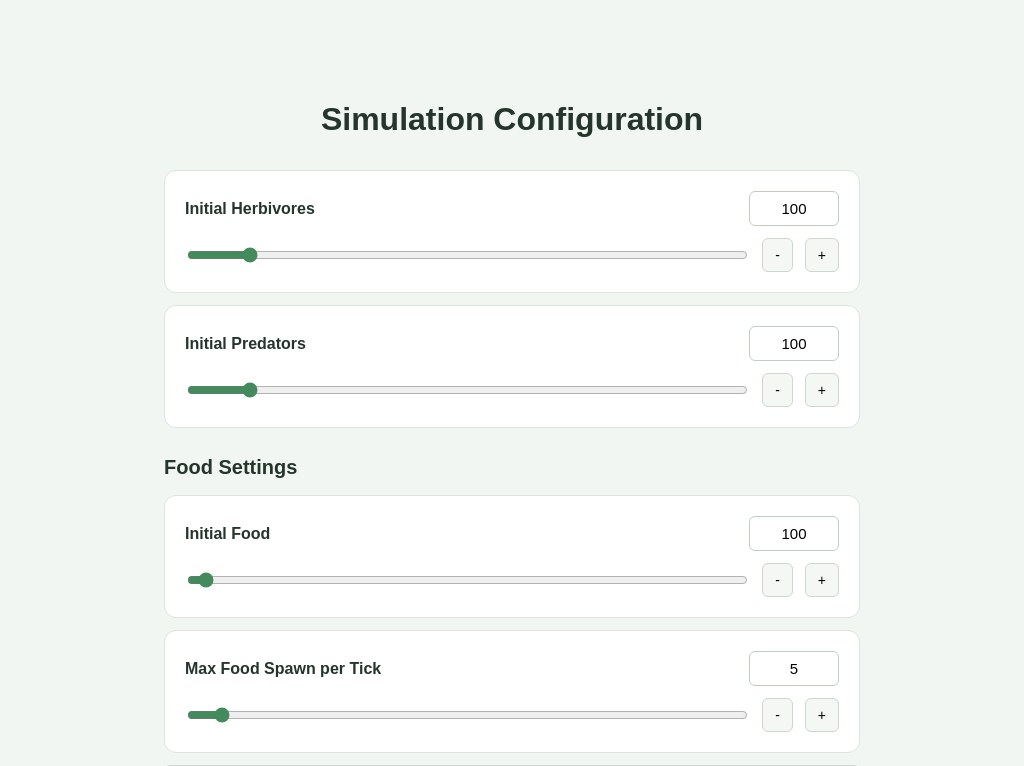
ConfigurationPage › clears a validation error when the field is corrected
This screenshot has width=1024, height=766.
Clear the field labelled "Initial Herbivores" at (794, 209), box 749,191 -> 839,226
(page scrolled)
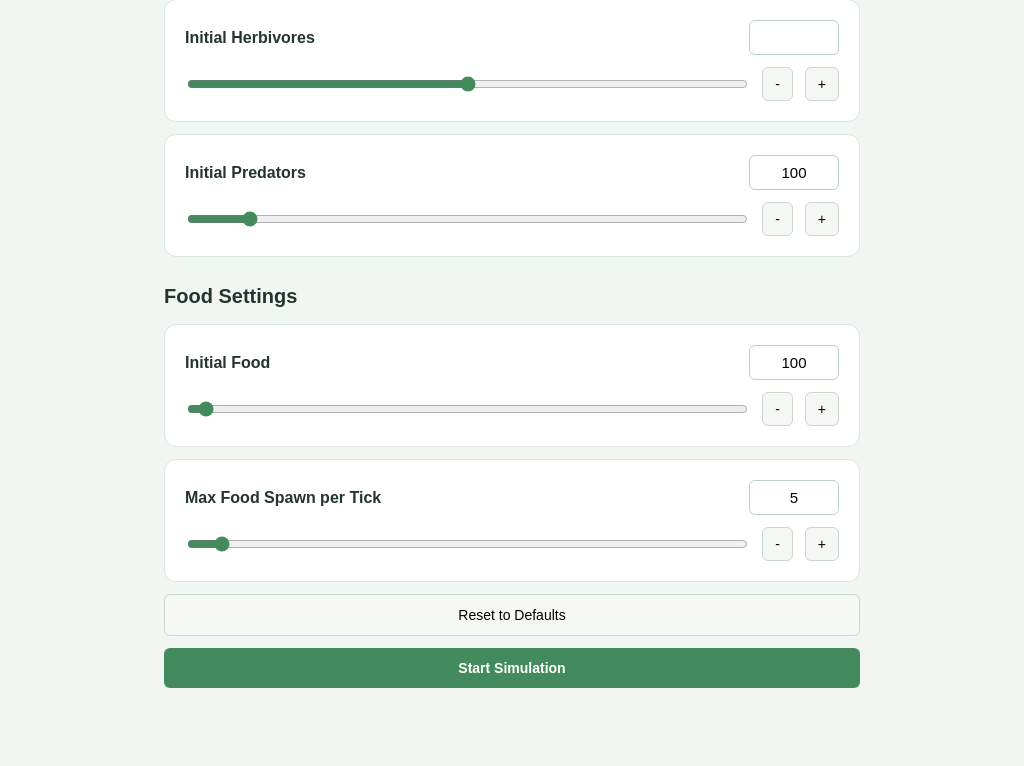
Click the button "Start Simulation".
click(512, 668)  # box 164,648 -> 860,688
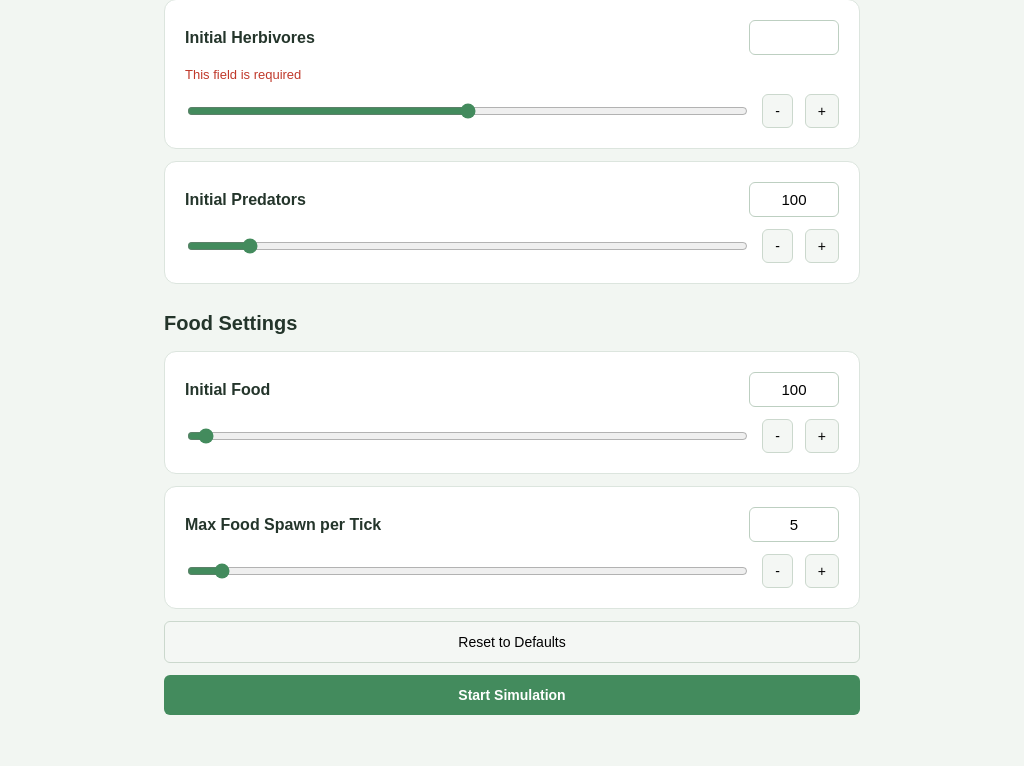
Expected: the message reads "This field is required", 185,67 -> 301,82
Type "200" into the field labelled "Initial Herbivores".
click(794, 38); type("200")  # box 749,20 -> 839,55
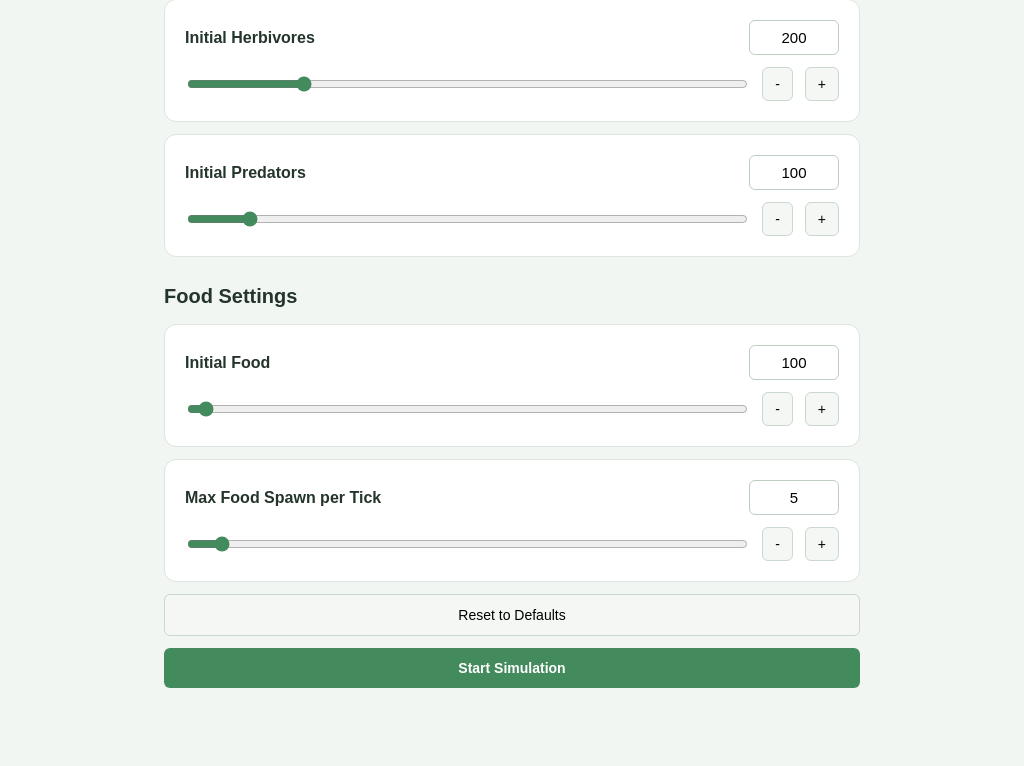
Expected: the message "This field is required" is gone
